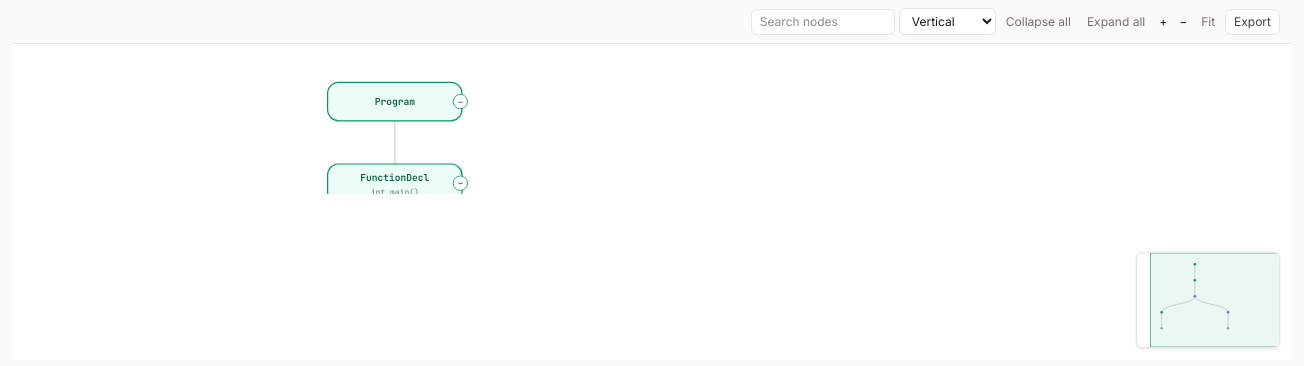
Test: TreeCanvas › highlights search matches and cycles to subsequent matches
Type "value" into the field named "Search AST" at (823, 22), box top-left (751, 8), bottom-right (895, 34)
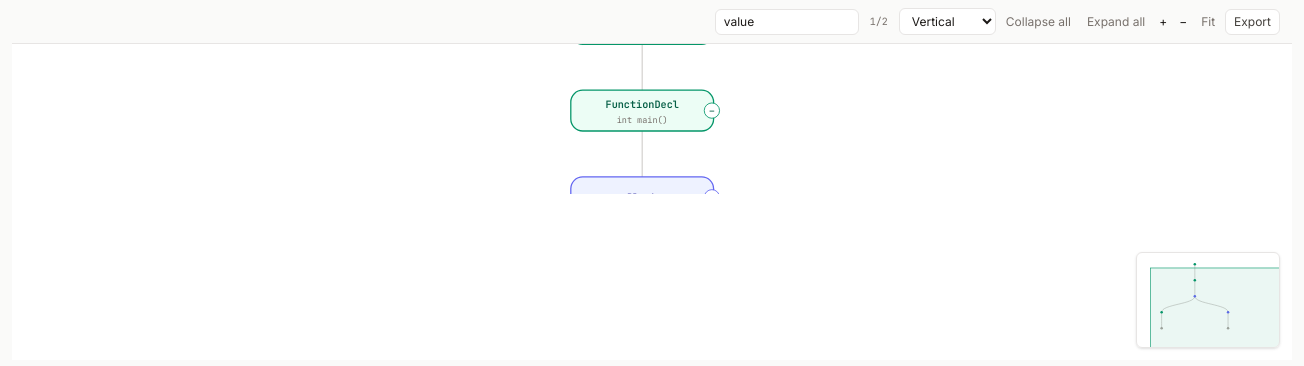
Expected: the text "1/2" is shown, top-left (870, 15), bottom-right (888, 28)
Press Enter in the field named "Search AST", box top-left (715, 8), bottom-right (859, 34)
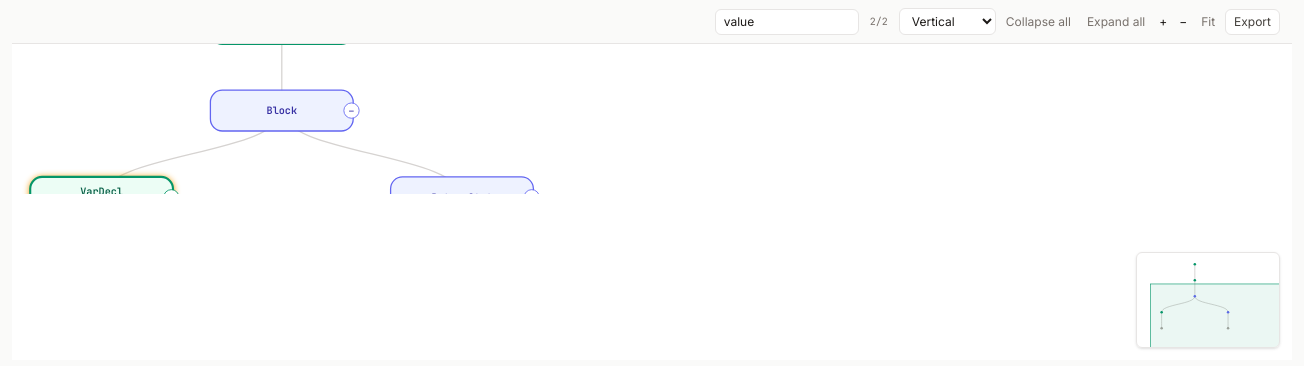
Expected: the text "2/2" is shown, top-left (870, 15), bottom-right (888, 28)
